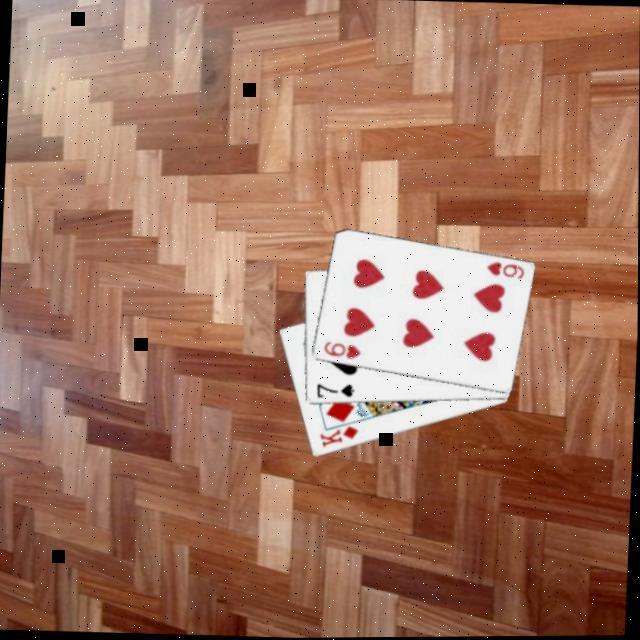6H: (318, 341, 362, 364), (480, 261, 524, 284)
7S: (311, 382, 355, 403)
KD: (315, 424, 360, 453)
